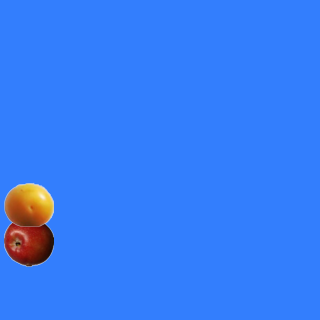Apple Braeburn: (3, 216, 53, 266)
Cherry Wax Yellow: (3, 179, 53, 229)
